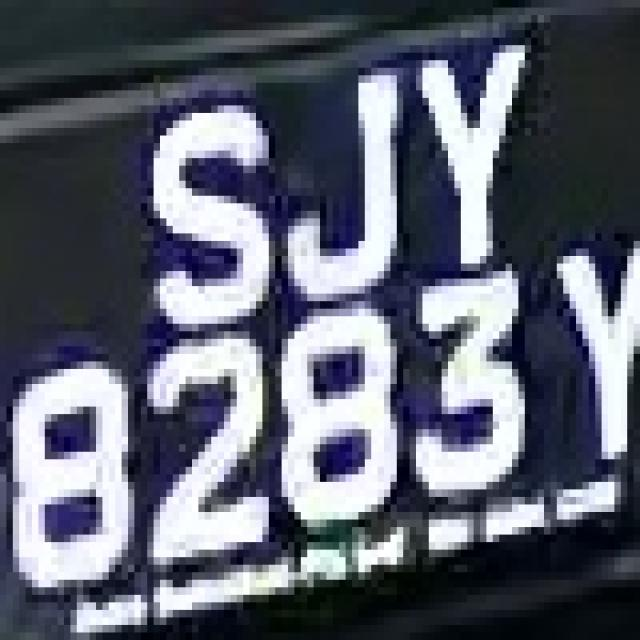2: (128, 286, 294, 580)
3: (397, 248, 531, 520)
8: (262, 294, 422, 534), (13, 346, 141, 610)
J: (294, 38, 416, 308)
S: (128, 83, 282, 316)
Y: (531, 203, 640, 467), (410, 45, 544, 249)
